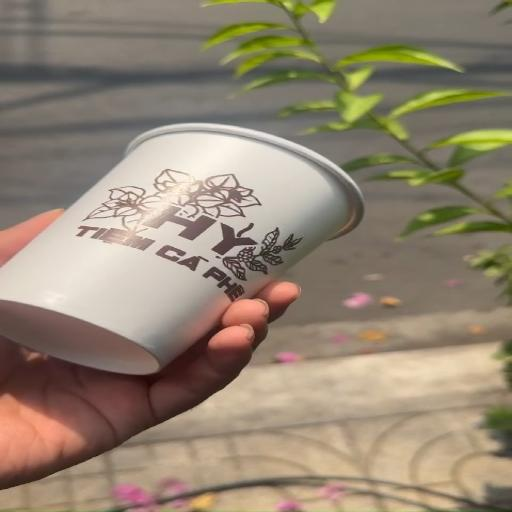Ly_giay: (0, 123, 363, 374)
